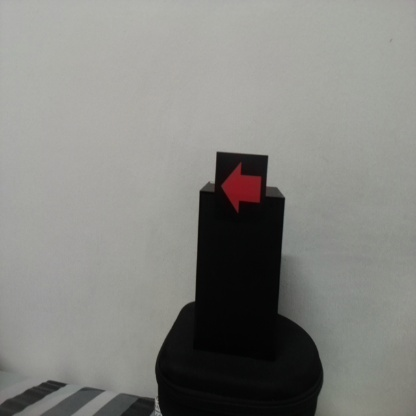id_4: (217, 154, 267, 227)
